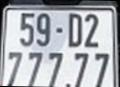-: (56, 27, 63, 34)
.: (65, 82, 71, 87)
2: (84, 13, 99, 48)
5: (19, 13, 35, 47)
7: (7, 51, 24, 87), (28, 51, 44, 87), (48, 52, 63, 87), (95, 53, 110, 87), (74, 52, 88, 87)
9: (37, 13, 51, 47)
D: (68, 13, 83, 48)
